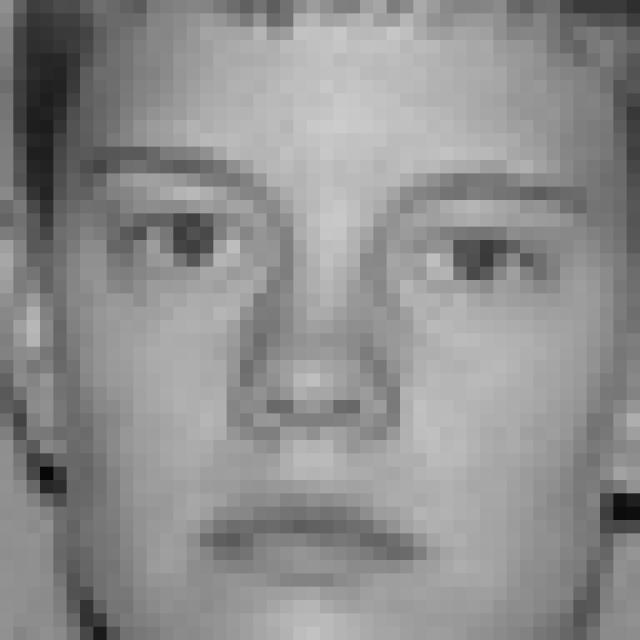neutral: (79, 138, 602, 588)
